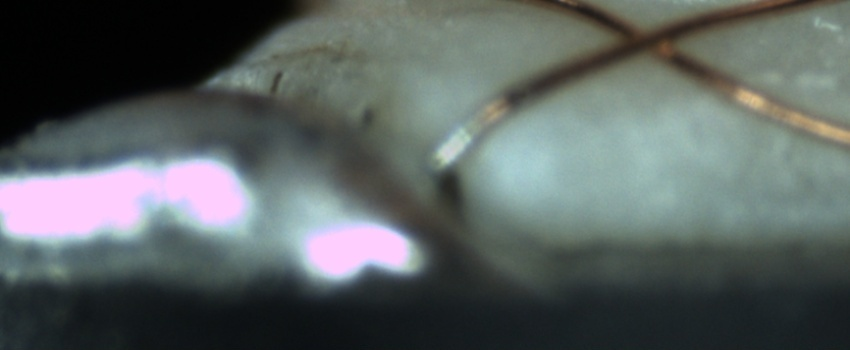CL: (602, 8, 693, 65)
